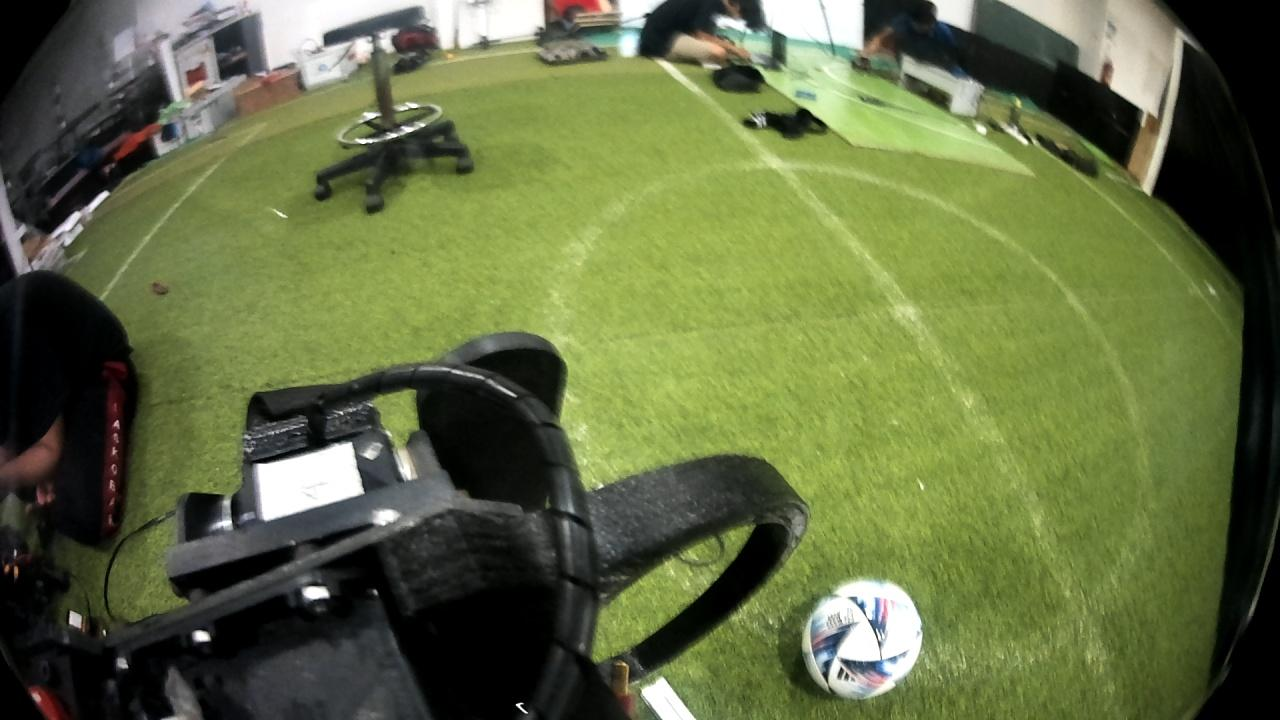ball: (796, 565, 925, 707)
